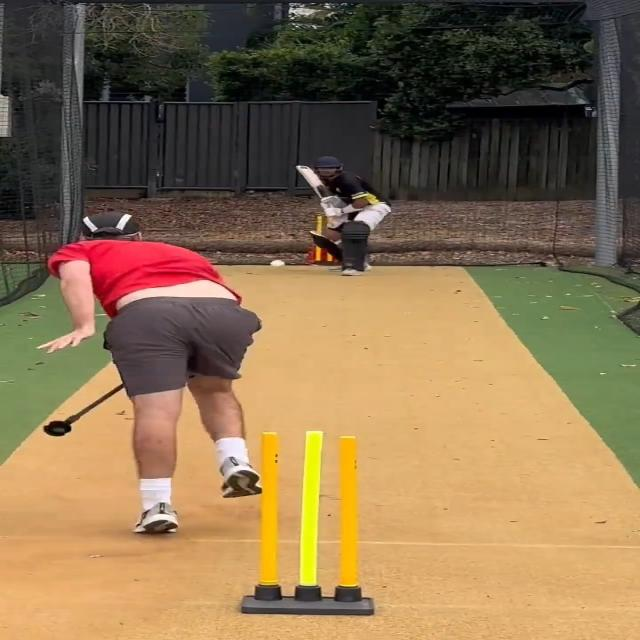ball: (269, 259, 286, 269)
stump: (243, 429, 374, 615)
